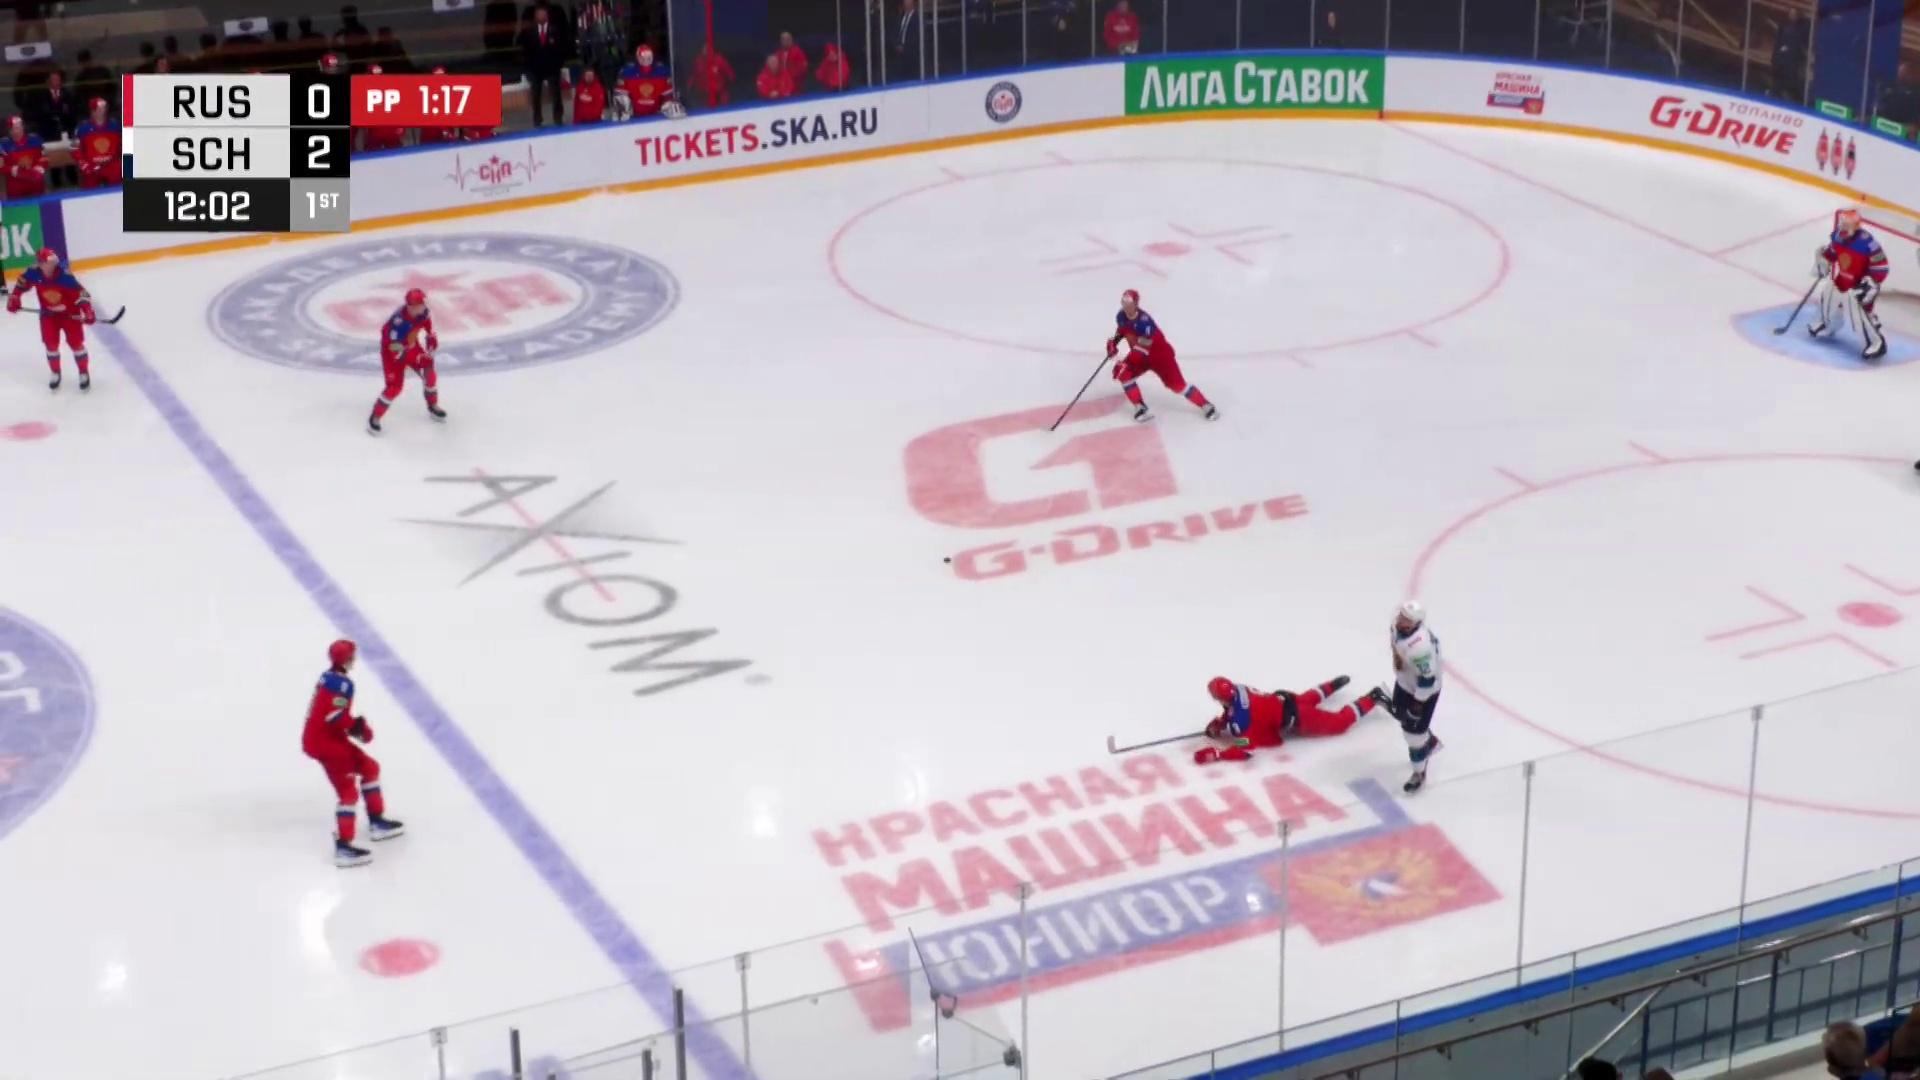ball: (943, 556, 953, 564)
